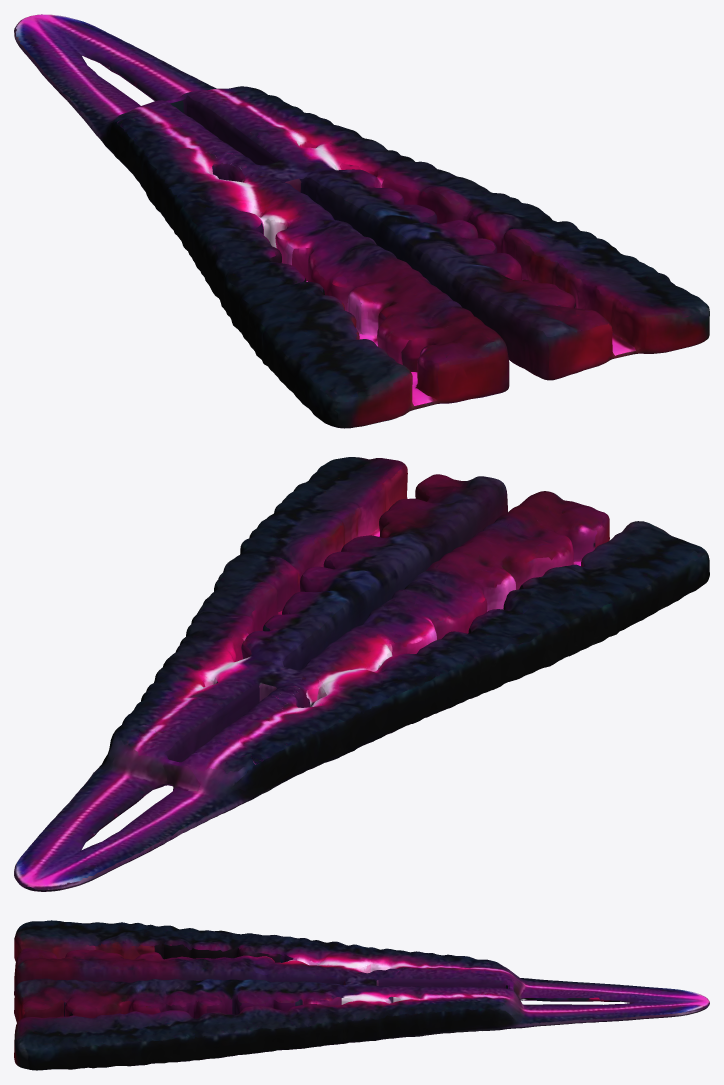
File: yggdrasil-bifrost-ribbon-merged-2026-04-25t02-17-02-006z-generated-2026-05-17T21-26-55-097Z.medium.glb
3 views of the same model, one above another, from view 1: azimuth 30°, elevation 25°; view 2: azimuth 150°, elevation 25°; view 3: azimuth 270°, elevation 25° (orthographic). The views are drawn at different scales.
Visible parts, largest first — view 1: temp_mesh.ply; view 2: temp_mesh.ply; view 3: temp_mesh.ply.
Part boxes in pixels (left/top/right/bottom): temp_mesh.ply: left=14, top=14, right=709, bottom=428; temp_mesh.ply: left=14, top=457, right=709, bottom=891; temp_mesh.ply: left=14, top=920, right=709, bottom=1070.
Size of the model in its own units: 0.8797 by 0.1133 by 1.97.
Materials: 1 (1 with a texture image).
